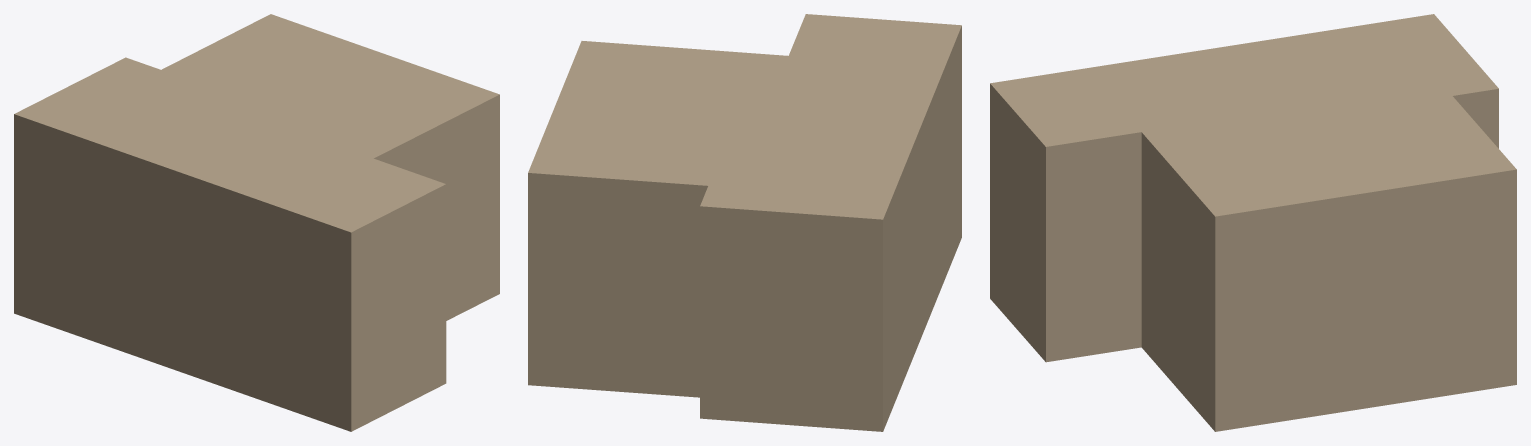
The model's file is bld_107639091.dae.
The picture shows the model from 3 angles, left to right: view 1: azimuth 30°, elevation 25°; view 2: azimuth 150°, elevation 25°; view 3: azimuth 270°, elevation 25°; orthographic projection. The views are drawn at different scales.
Visible parts, largest first — view 1: bld_107639091; view 2: bld_107639091; view 3: bld_107639091.
Boxes of the visible parts, bbox=[...] form: bld_107639091: bbox=[14, 14, 499, 431]; bld_107639091: bbox=[528, 14, 961, 431]; bld_107639091: bbox=[990, 14, 1516, 431].
Bounding box in the file's own units: 16.14 × 17.74 × 8.
